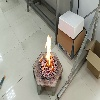fire: (40, 34, 54, 73)
